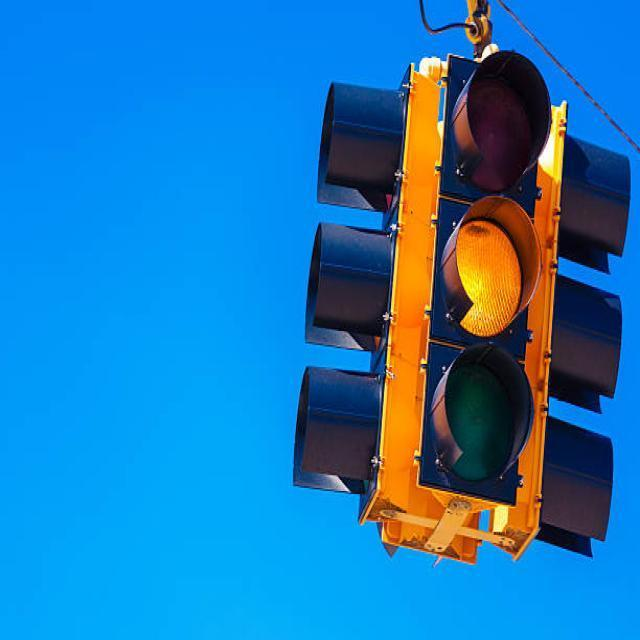yellow_light: (419, 51, 550, 504)
